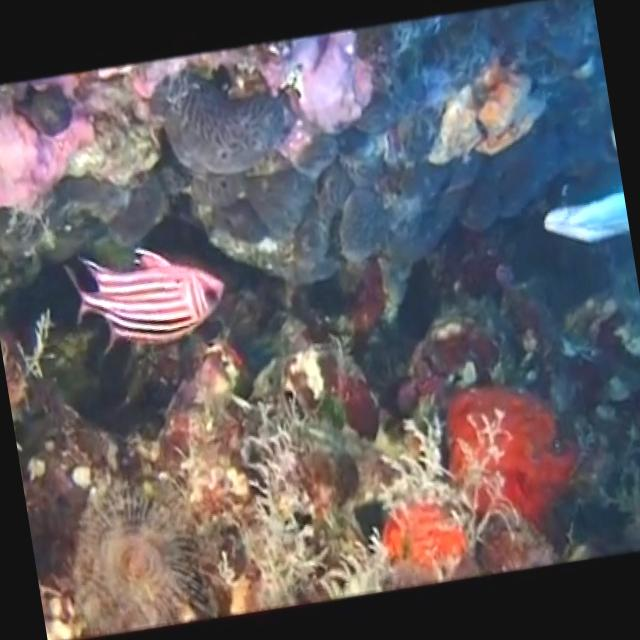Asker Baligi: (58, 230, 234, 364)
